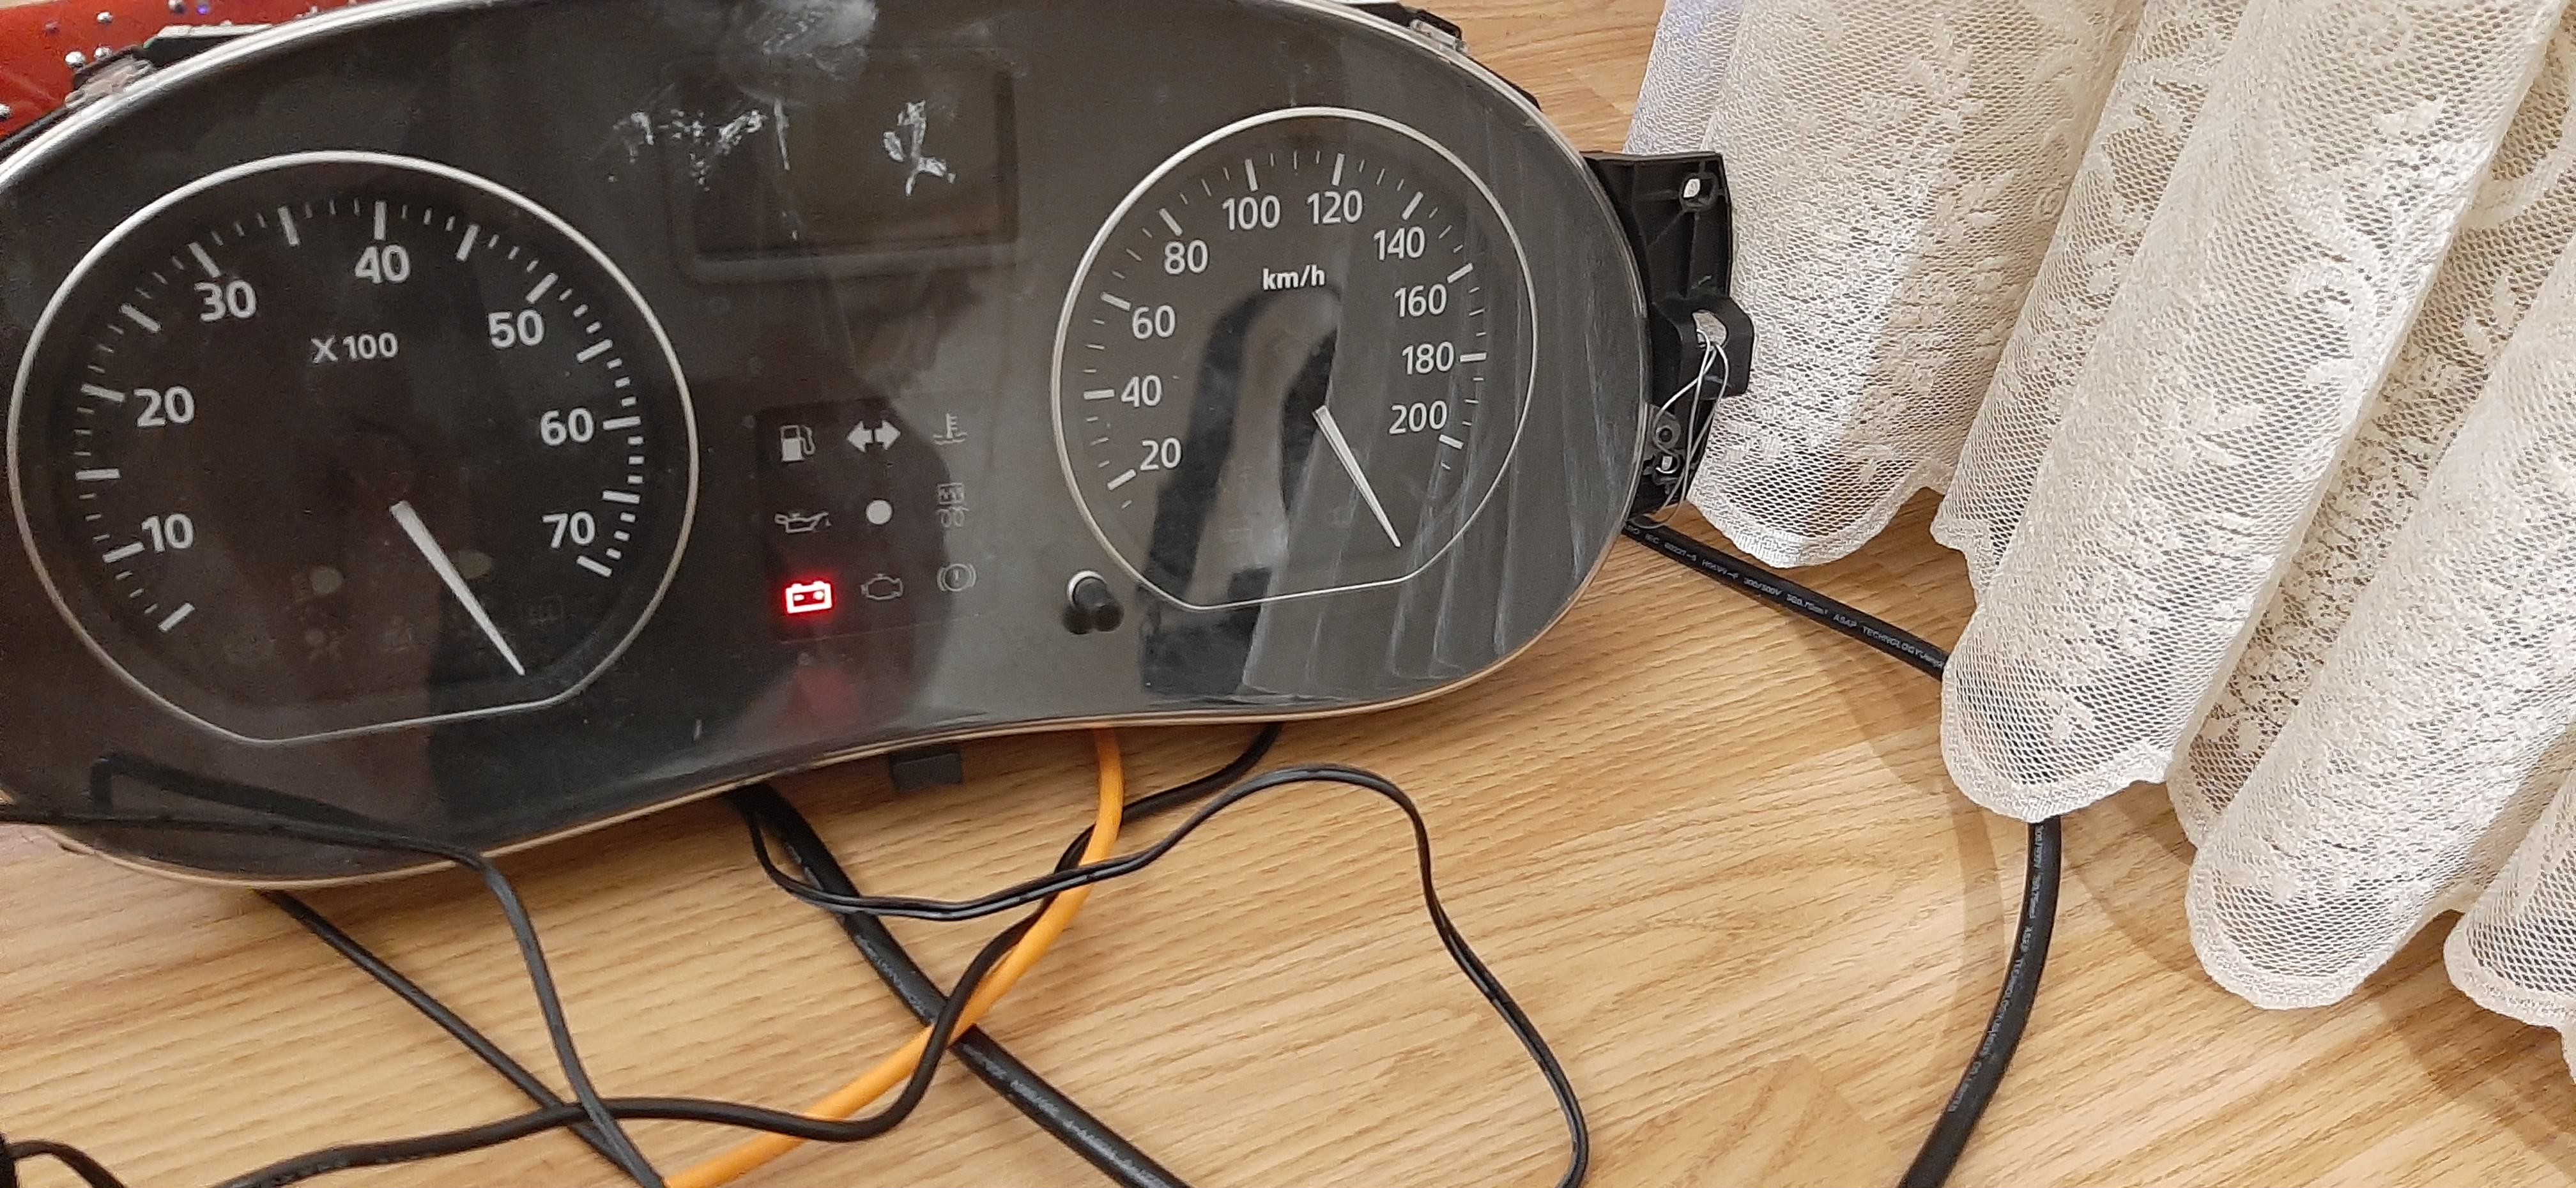accomulator23: (782, 573, 836, 615)
